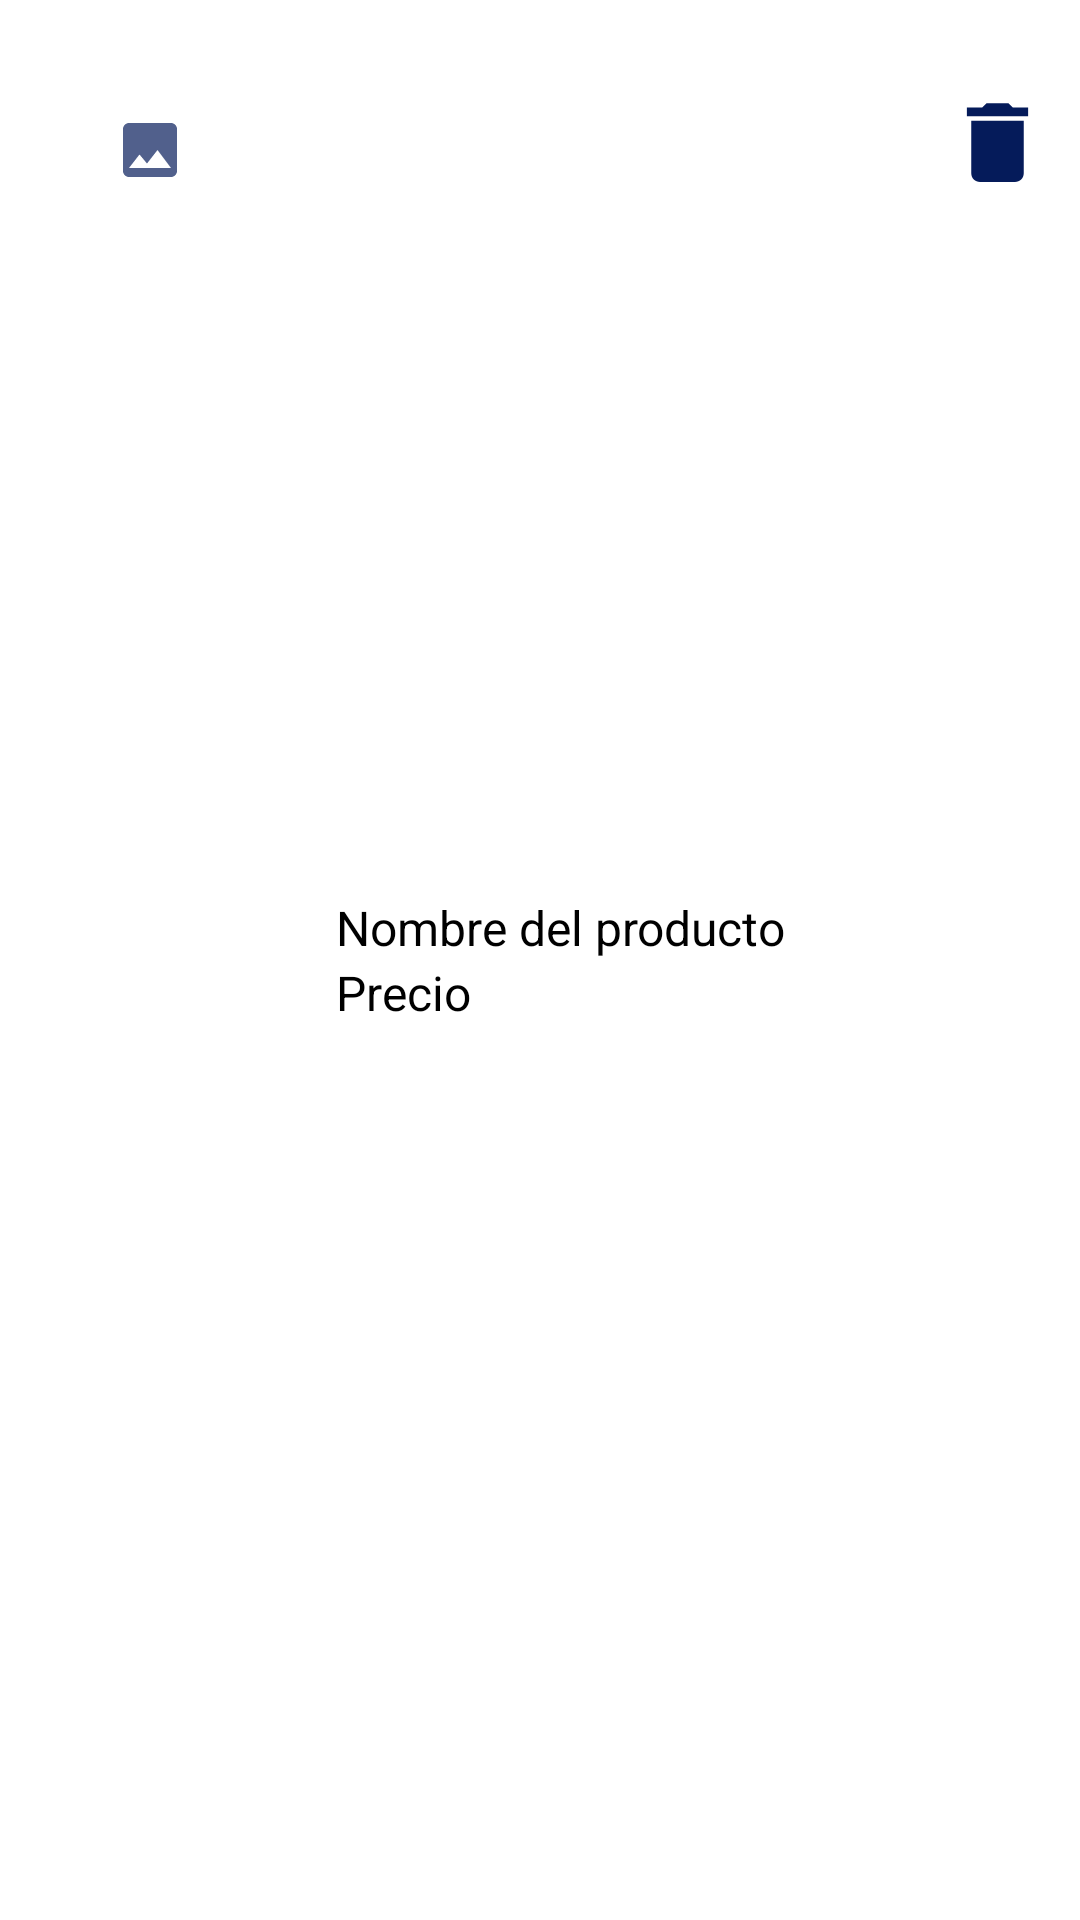

Icons on this 1080 x 1920 Android screen, each with its box as (x1, y1, x2, y2):
delete: (966, 103, 1029, 182)
